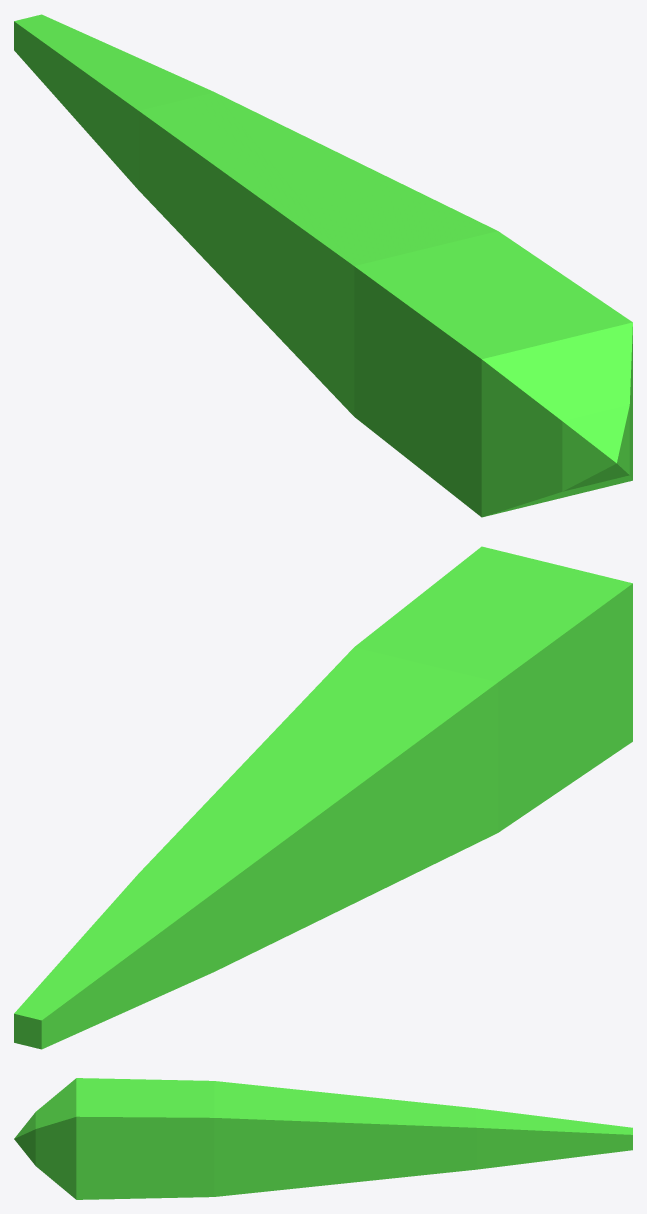
The model's file is big_bullet.glb.
3 views of the same model, one above another, from view 1: azimuth 30°, elevation 25°; view 2: azimuth 150°, elevation 25°; view 3: azimuth 270°, elevation 25° (orthographic). The views are drawn at different scales.
Visible parts, largest first — view 1: MainObject; view 2: MainObject; view 3: MainObject.
Part boxes in pixels (x1,y1,x2,y2): MainObject: [14, 14, 632, 517]; MainObject: [14, 546, 632, 1049]; MainObject: [14, 1078, 632, 1199].
Size of the model in its own units: 1.29 by 1.29 by 8.7.
